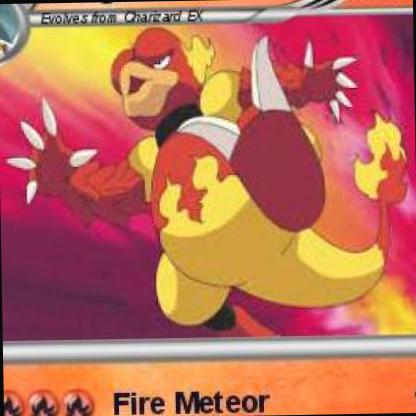Magmar: (0, 0, 408, 415)
